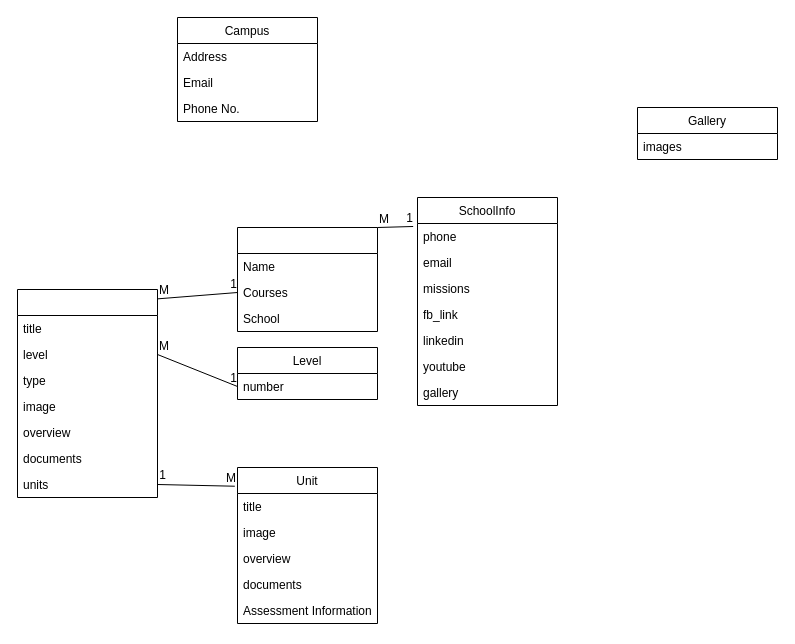
Some shapes in this 795 by 644 pixel diagram are drawn without their labels. Here are the shapes that lost their labels. From the top down, the box of each, then its label:
(236, 226, 378, 332): Academic
(16, 288, 158, 498): Course
